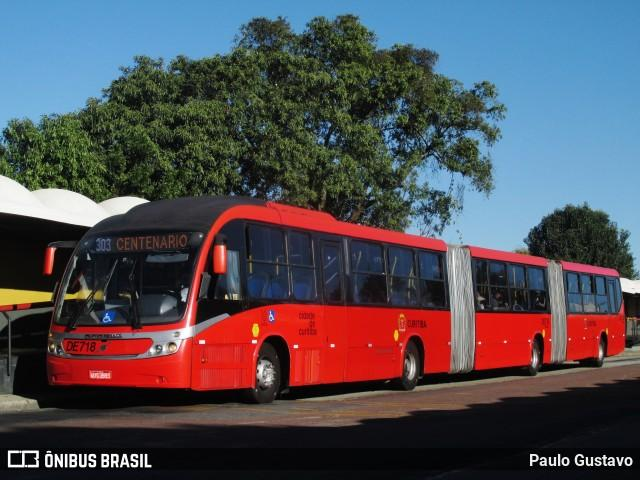CENTENARIO: (114, 234, 191, 254)
